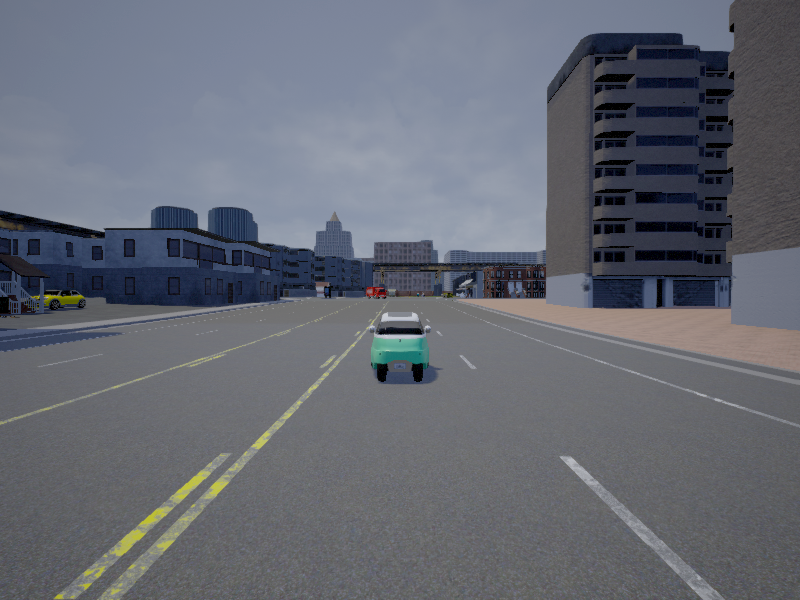Benign: (367, 312, 427, 381), (31, 289, 87, 309), (365, 285, 388, 300)
